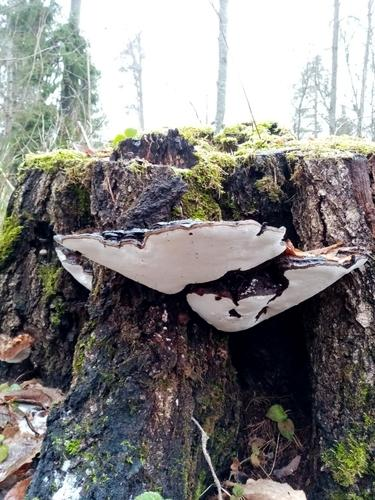Ganoderma - Fruit Body: (52, 218, 367, 330)
